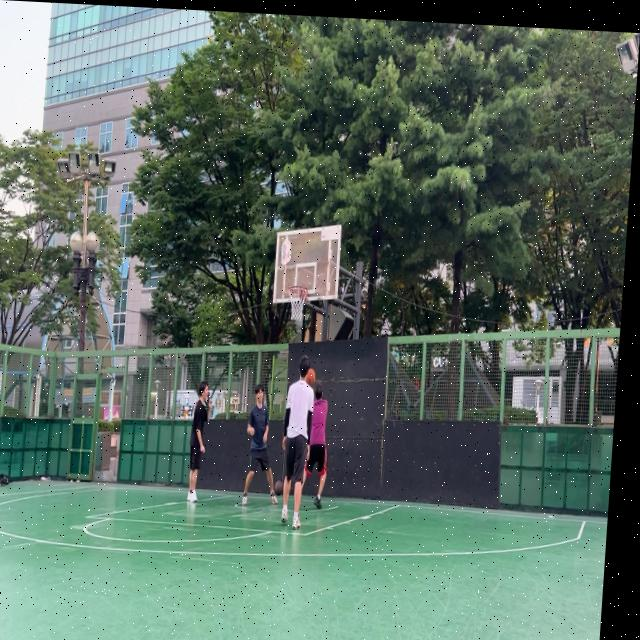basketball: (305, 368, 316, 386)
hoop: (286, 286, 308, 323)
